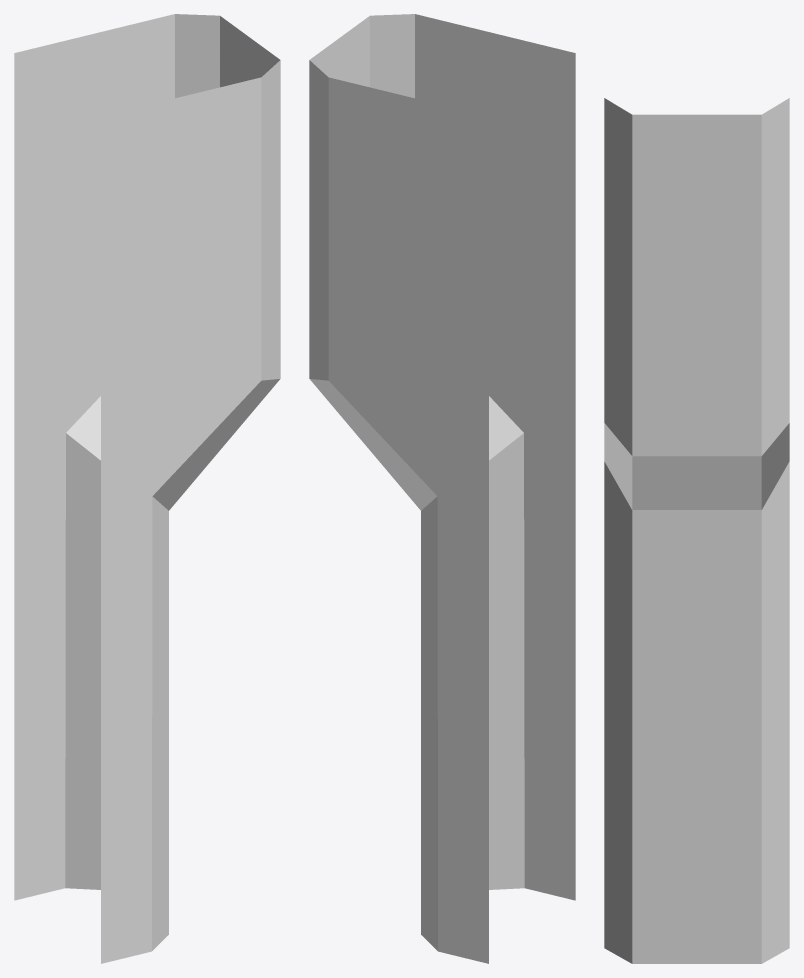
File: SM_WallSupportWide.fbx
The picture shows the model from 3 angles, left to right: view 1: azimuth 30°, elevation 25°; view 2: azimuth 150°, elevation 25°; view 3: azimuth 270°, elevation 25°; orthographic projection. The views are drawn at different scales.
Parts seen in each view (by area): view 1: Cube.037; view 2: Cube.037; view 3: Cube.037.
Part boxes in pixels (x1,y1,x2,y2): Cube.037: [14, 14, 280, 963]; Cube.037: [309, 14, 575, 963]; Cube.037: [604, 98, 789, 963].
Bounding box in the file's own units: 37.01 × 47.56 × 200.
